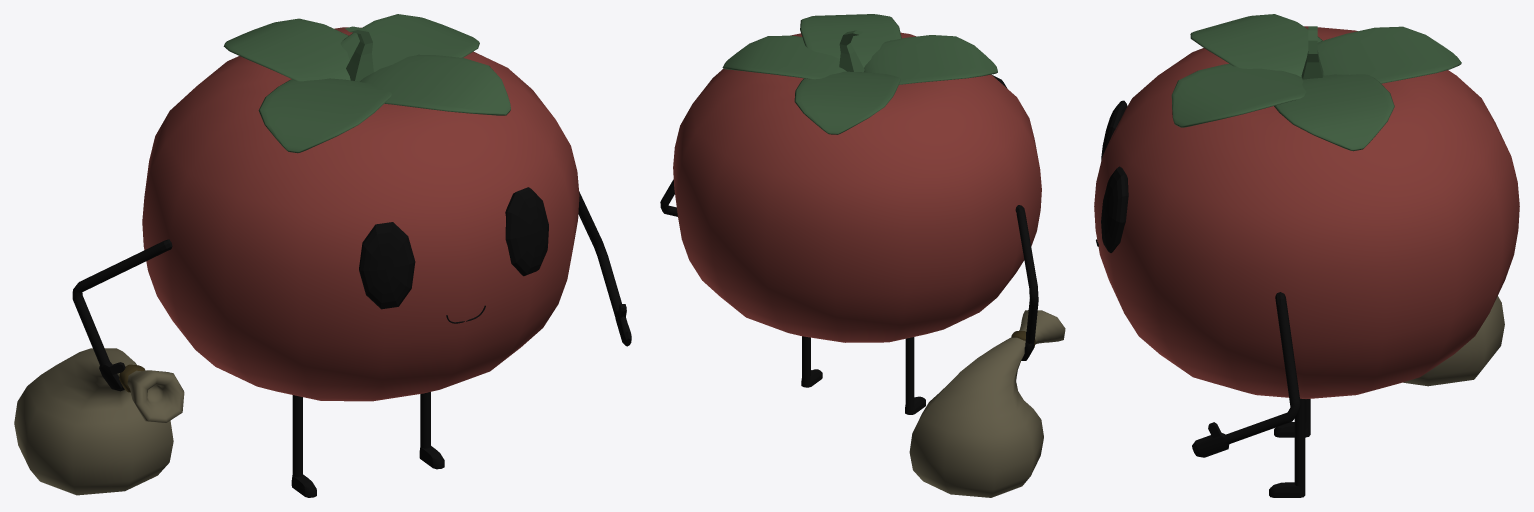
Rendered from TomatoStanding.fbx.
3 views of the same model, side by side, from view 1: azimuth 30°, elevation 25°; view 2: azimuth 150°, elevation 25°; view 3: azimuth 270°, elevation 25° (orthographic). The views are drawn at different scales.
Visible parts, largest first — view 1: Body, polySurface5, RightEye, Leaf, Leaf2, Leaf1, Leaf3, polySurface2, Larm, RLeg, Stem, LLeg; view 2: Body, polySurface5, Leaf, Leaf1, Leaf3, Leaf2, polySurface2, RLeg, Stem, LLeg; view 3: Body, Leaf3, Leaf2, Leaf1, Leaf, Larm, polySurface5, RightEye, LLeg, Stem, RLeg.
Part boxes in pixels (bbox=[...]): Body: bbox=[142, 27, 579, 401]; polySurface5: bbox=[14, 348, 184, 495]; RightEye: bbox=[359, 187, 548, 309]; Leaf: bbox=[258, 78, 391, 153]; Leaf2: bbox=[360, 54, 510, 115]; Leaf1: bbox=[223, 18, 350, 81]; Leaf3: bbox=[340, 14, 479, 72]; polySurface2: bbox=[72, 239, 172, 391]; Larm: bbox=[578, 191, 631, 346]; RLeg: bbox=[291, 395, 316, 497]; Stem: bbox=[345, 26, 373, 81]; LLeg: bbox=[419, 392, 444, 469]; Body: bbox=[673, 32, 1041, 342]; polySurface5: bbox=[909, 310, 1065, 497]; Leaf: bbox=[864, 35, 997, 84]; Leaf1: bbox=[794, 71, 900, 134]; Leaf3: bbox=[722, 35, 846, 79]; Leaf2: bbox=[800, 14, 901, 67]; polySurface2: bbox=[1015, 205, 1038, 360]; RLeg: bbox=[905, 337, 925, 414]; Stem: bbox=[839, 30, 864, 72]; LLeg: bbox=[801, 336, 822, 387]; Body: bbox=[1094, 26, 1519, 398]; Leaf3: bbox=[1274, 74, 1394, 151]; Leaf2: bbox=[1171, 63, 1306, 127]; Leaf1: bbox=[1317, 26, 1461, 83]; Leaf: bbox=[1190, 14, 1322, 77]; Larm: bbox=[1192, 292, 1300, 457]; polySurface5: bbox=[1403, 296, 1504, 386]; RightEye: bbox=[1101, 100, 1128, 252]; LLeg: bbox=[1269, 398, 1305, 497]; Stem: bbox=[1301, 26, 1323, 79]; RLeg: bbox=[1274, 399, 1310, 437].
Size of the model in its own units: 163 by 136 by 119.
